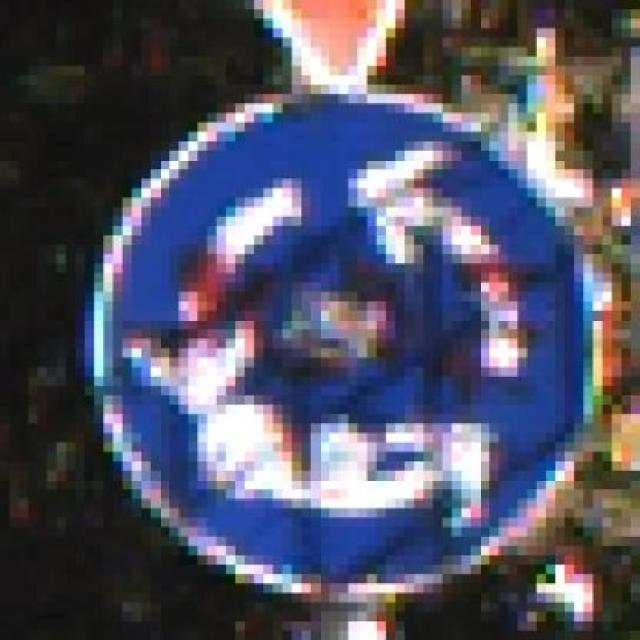Round-About: (75, 85, 612, 612)
